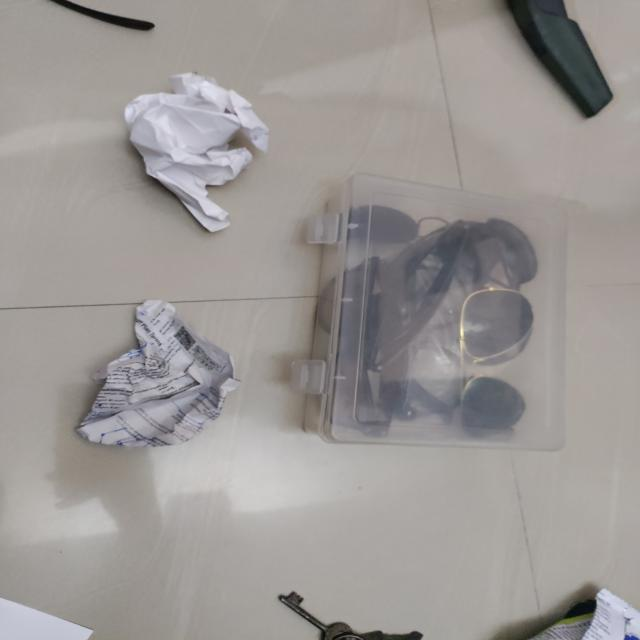metal: (275, 591, 426, 639), (43, 0, 160, 37)
paper: (79, 295, 243, 468), (124, 70, 274, 234), (0, 588, 91, 640)
plastic: (297, 158, 569, 458), (513, 0, 617, 120), (522, 588, 640, 640)
